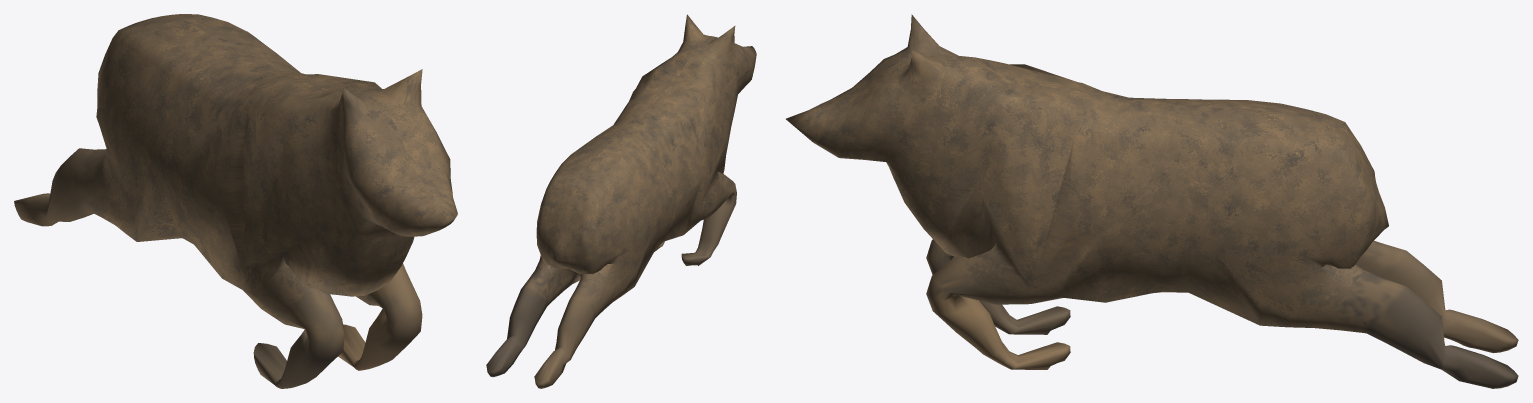
File: piesblend_000022.obj
3 views of the same model, side by side, from view 1: azimuth 30°, elevation 25°; view 2: azimuth 150°, elevation 25°; view 3: azimuth 270°, elevation 25° (orthographic). The views are drawn at different scales.
Parts seen in each view (by area): view 1: Cube; view 2: Cube; view 3: Cube.
Boxes of the visible parts, x1,y1,x2,y2 form: Cube: [14, 14, 457, 388]; Cube: [486, 14, 756, 388]; Cube: [786, 14, 1518, 388].
Bounding box in the file's own units: 2.55 × 5.53 × 10.83.
1 material, 1 textured.
